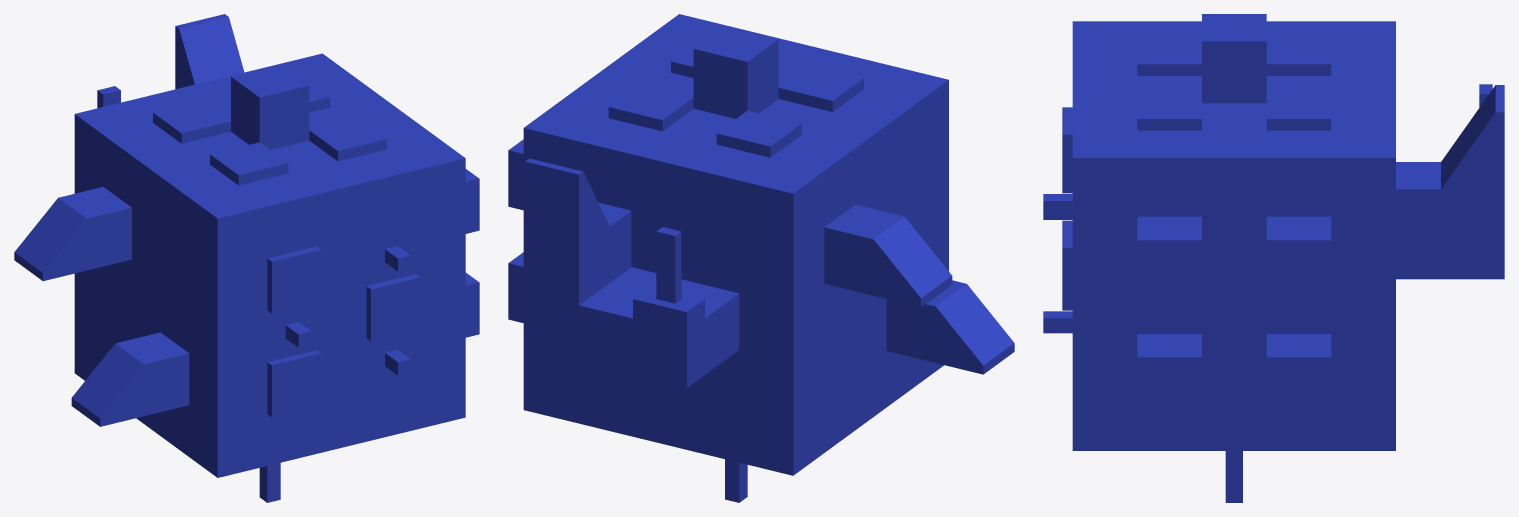
The model's file is psyk02.obj.
The picture shows the model from 3 angles, left to right: view 1: azimuth 30°, elevation 25°; view 2: azimuth 150°, elevation 25°; view 3: azimuth 270°, elevation 25°; orthographic projection. The views are drawn at different scales.
Parts seen in each view (by area): view 1: Cube; view 2: Cube; view 3: Cube.
Part boxes in pixels (<box>): Cube: <box>14,14,479,502</box>; Cube: <box>508,14,1014,502</box>; Cube: <box>1043,14,1504,502</box>.
Size of the model in its own units: 3.06 by 3.22 by 2.85.
